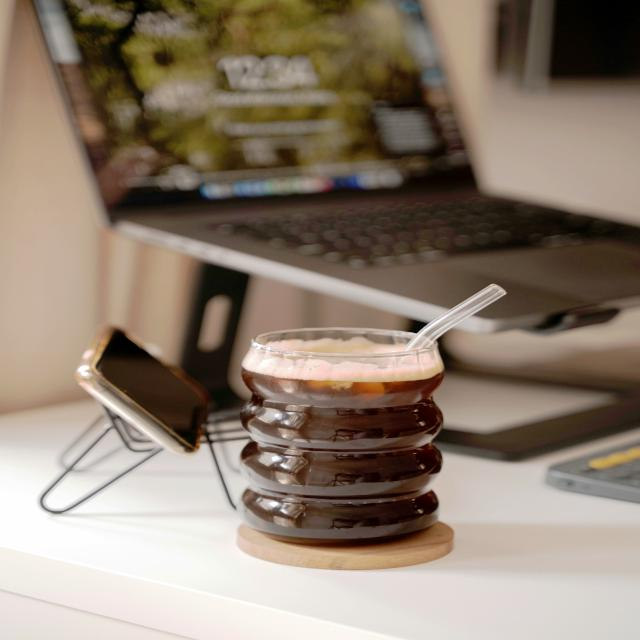drink: (238, 283, 502, 551)
